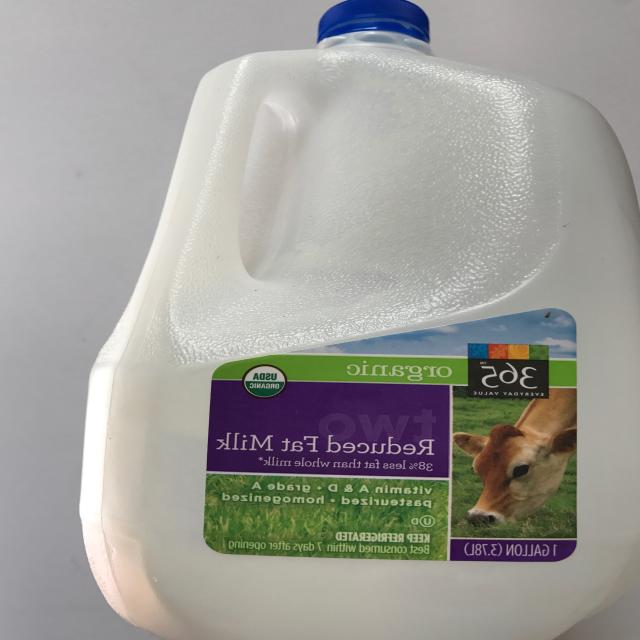plastic: (79, 0, 640, 640)
